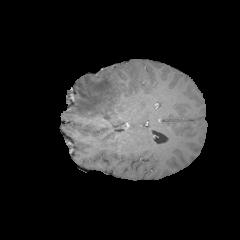glioma: (70, 68, 122, 126)
